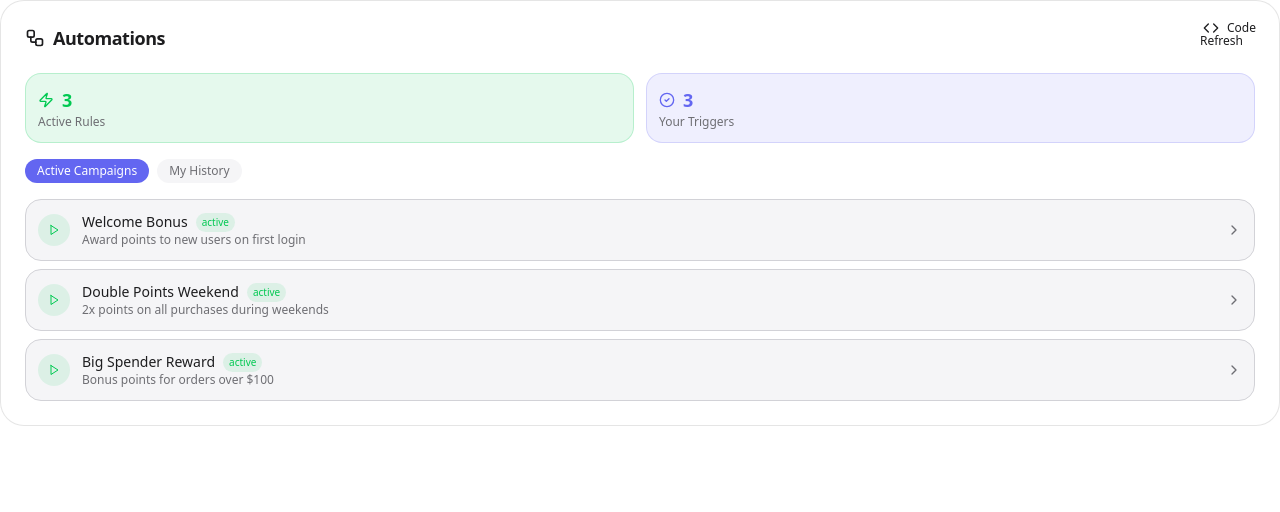
Test: DemoCampaigns › shows user history when switching to My History tab
Click My History tab
Click the button "My History": (199, 171) [157, 159, 242, 183]
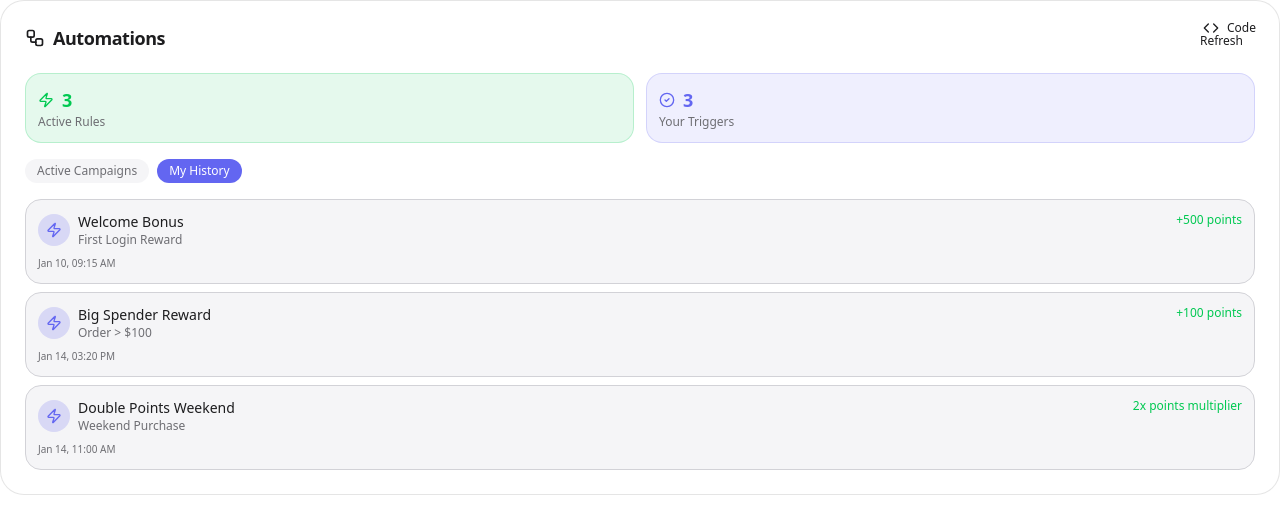
Result: the text "First Login Reward" is shown at [78, 232, 184, 248]
Result: the text "+500 points" is shown at [1176, 212, 1242, 228]
